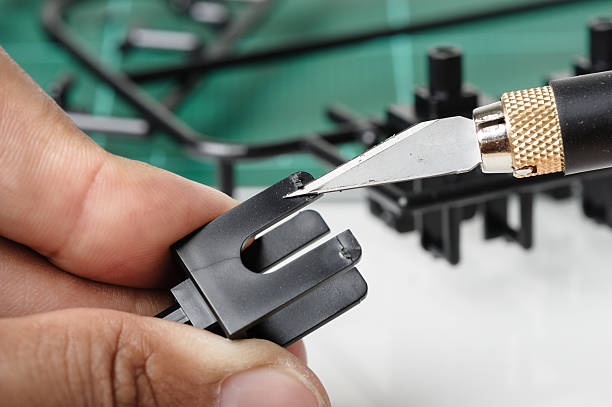knife: (284, 112, 482, 200)
